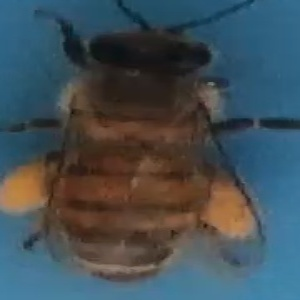bee: (2, 1, 300, 284)
